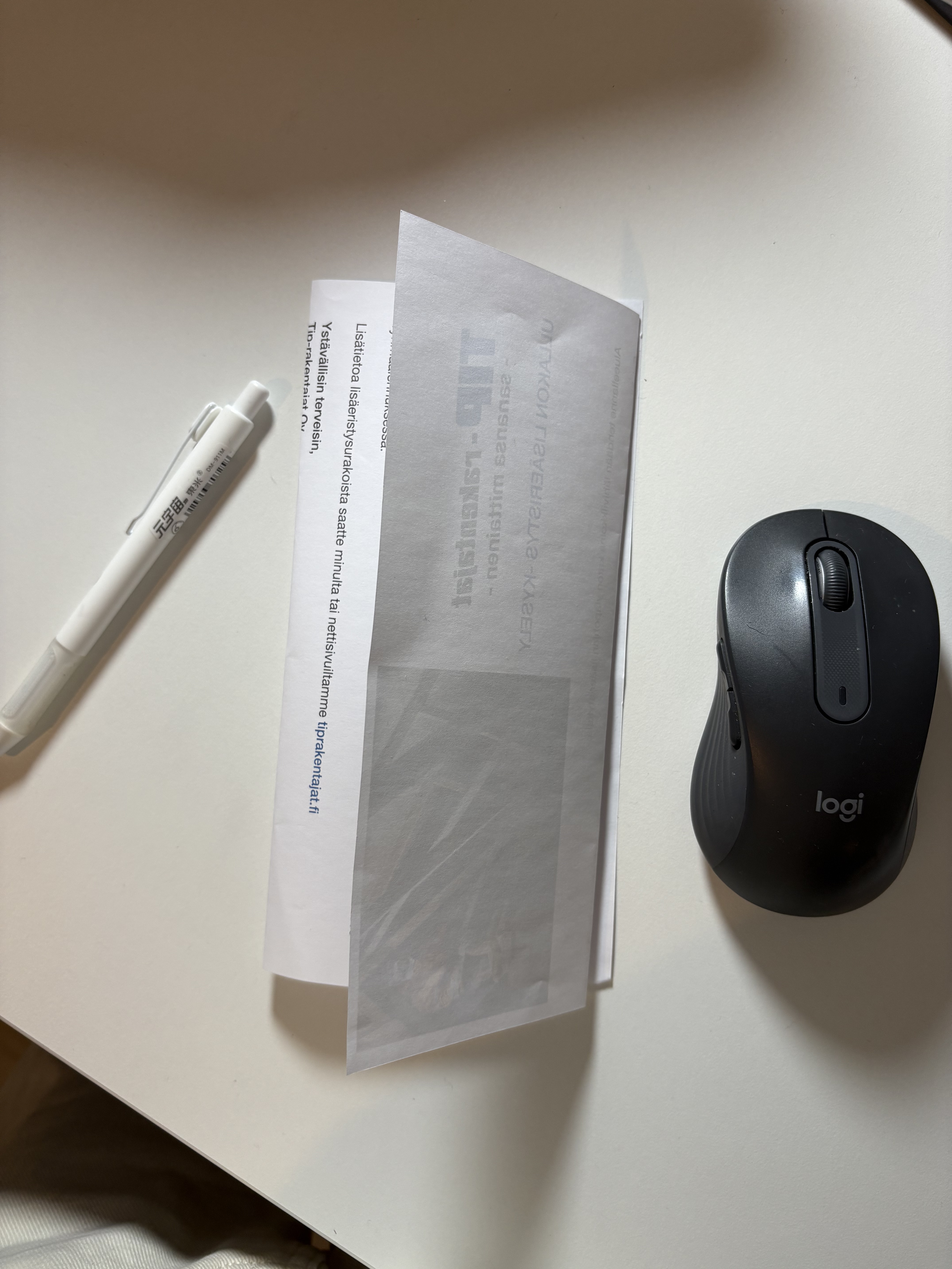paper: (263, 205, 624, 1065)
